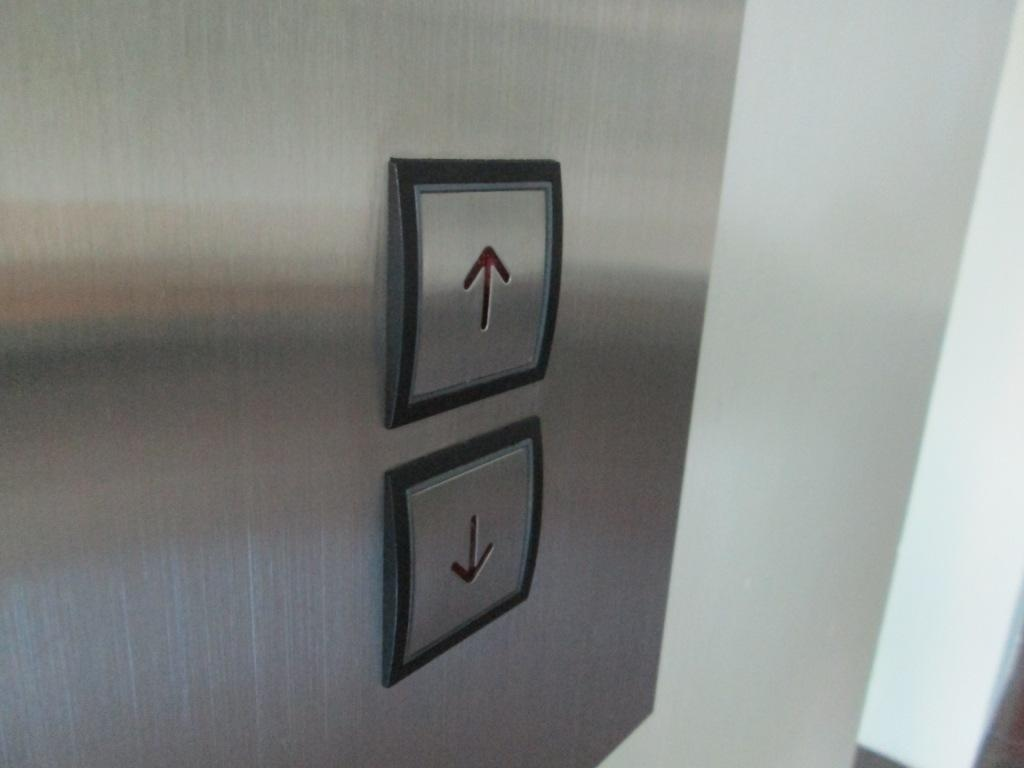down: (378, 411, 547, 694)
up: (378, 151, 567, 434)
